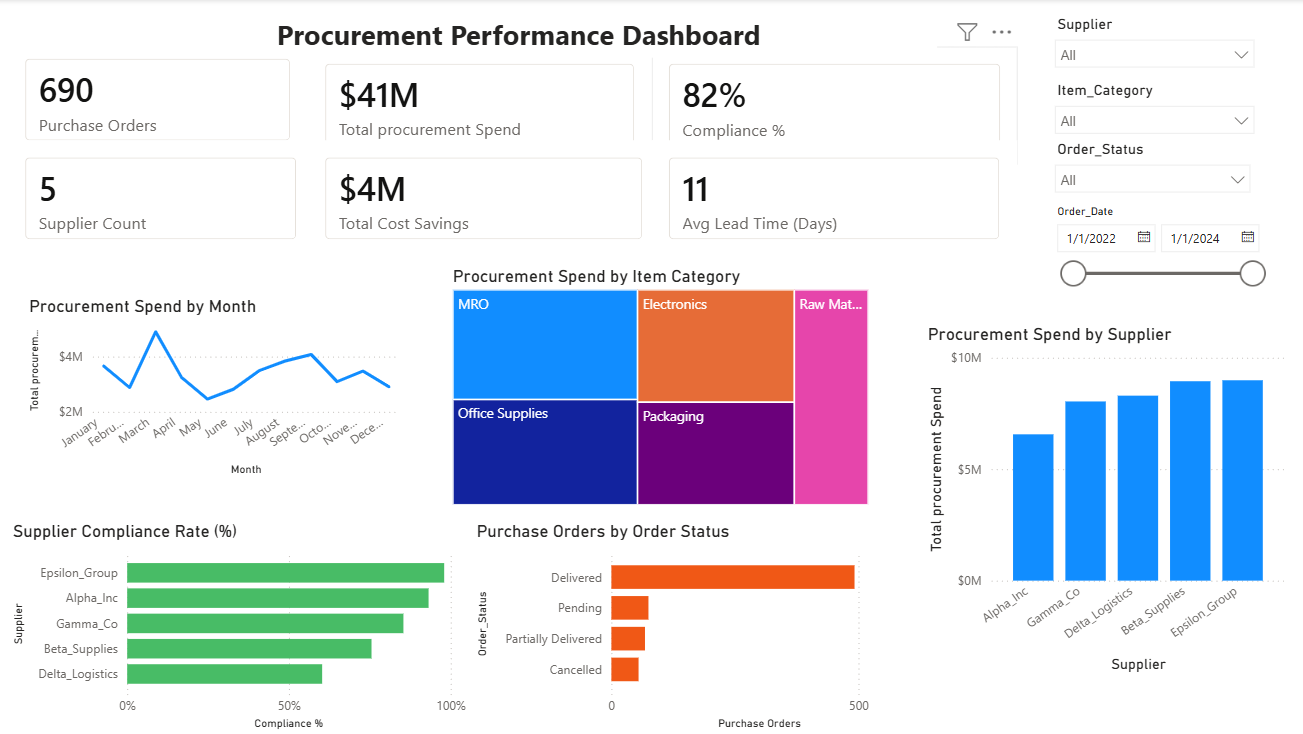

What the dashboard file says about the page in this screenshot:
{"tool":"powerbi","page":{"name":"Executive Dashboard","canvas":[1280,720],"ordinal":0},"visuals":[{"type":"cardVisual","fields":{"Data":["Procurement KPI Analysis Dataset.Purchase Orders"]},"box":[9.8,41.6,293.5,114.9],"z":0},{"type":"cardVisual","fields":{"Data":["Procurement KPI Analysis Dataset.Compliance %"]},"box":[639.5,46.5,358.3,114.9],"z":1000},{"type":"cardVisual","fields":{"Data":["Procurement KPI Analysis Dataset.Total procurement Spend"]},"box":[303.3,46.5,336.3,113.7],"z":2000},{"type":"cardVisual","fields":{"Data":["Procurement KPI Analysis Dataset.Supplier Count"]},"box":[10,138.3,299.3,114],"z":3000},{"type":"cardVisual","fields":{"Data":["Procurement KPI Analysis Dataset.Total Cost Savings"]},"box":[303.6,138.3,344.9,114],"z":4000},{"type":"cardVisual","fields":{"Data":["Procurement KPI Analysis Dataset.Avg Lead Time"]},"box":[640,138.3,357.8,114],"z":5000},{"type":"clusteredColumnChart","title":"Procurement Spend by Supplier","fields":{"Category":["Procurement KPI Analysis Dataset.Supplier"],"Y":["Procurement KPI Analysis Dataset.Total procurement Spend"]},"box":[904.9,317.9,359.5,346.1],"z":6000},{"type":"lineChart","title":"Procurement Spend by Month","fields":{"Category":["Procurement KPI Analysis Dataset.Order_Date.Variation.Date Hierarchy.Month"],"Y":["Procurement KPI Analysis Dataset.Total procurement Spend"]},"box":[25.7,289.4,372,181],"z":7000},{"type":"treemap","title":"Procurement Spend by Item Category","fields":{"Group":["Procurement KPI Analysis Dataset.Item_Category"],"Values":["Procurement KPI Analysis Dataset.Total procurement Spend"]},"box":[440.4,260.8,416.2,239.5],"z":8000},{"type":"clusteredBarChart","title":"Purchase Orders by Order Status","fields":{"Y":["Procurement KPI Analysis Dataset.Purchase Orders"],"Category":["Procurement KPI Analysis Dataset.Order_Status"]},"box":[463.3,510.3,441.9,209.5],"z":9000},{"type":"clusteredBarChart","title":"Supplier Compliance Rate (%)","fields":{"Category":["Procurement KPI Analysis Dataset.Supplier"],"Y":["Procurement KPI Analysis Dataset.Compliance %"]},"box":[10,510.3,453.3,209.5],"z":10000},{"type":"slicer","fields":{"Values":["Procurement KPI Analysis Dataset.Supplier"]},"box":[1023.5,11,215.2,61.1],"z":11000},{"type":"slicer","fields":{"Values":["Procurement KPI Analysis Dataset.Item_Category"]},"box":[1023.5,75.8,215.2,57.5],"z":12000},{"type":"slicer","fields":{"Values":["Procurement KPI Analysis Dataset.Order_Status"]},"box":[1023.5,133.3,211.6,68.5],"z":13000},{"type":"slicer","fields":{"Values":["Procurement KPI Analysis Dataset.Order_Date"]},"box":[1023.5,195.7,225,94.2],"z":14000},{"type":"textbox","box":[100.3,11,818.1,46.5],"z":15000}]}

Visuals, with their boxes in screenshot pixels (x1, y1, x2, y2), scaled from the page's 1280x720 canvas onto the 1303x734 screenshot:
cardVisual - Procurement KPI Analysis Dataset.Purchase Orders: 10:42:309:160
cardVisual - Procurement KPI Analysis Dataset.Compliance %: 651:47:1016:165
cardVisual - Procurement KPI Analysis Dataset.Total procurement Spend: 309:47:651:163
cardVisual - Procurement KPI Analysis Dataset.Supplier Count: 10:141:315:257
cardVisual - Procurement KPI Analysis Dataset.Total Cost Savings: 309:141:660:257
cardVisual - Procurement KPI Analysis Dataset.Avg Lead Time: 652:141:1016:257
"Procurement Spend by Supplier" clusteredColumnChart: 921:324:1287:677
"Procurement Spend by Month" lineChart: 26:295:405:480
"Procurement Spend by Item Category" treemap: 448:266:872:510
"Purchase Orders by Order Status" clusteredBarChart: 472:520:921:733
"Supplier Compliance Rate (%)" clusteredBarChart: 10:520:472:733
slicer - Procurement KPI Analysis Dataset.Supplier: 1042:11:1261:74
slicer - Procurement KPI Analysis Dataset.Item_Category: 1042:77:1261:136
slicer - Procurement KPI Analysis Dataset.Order_Status: 1042:136:1257:206
slicer - Procurement KPI Analysis Dataset.Order_Date: 1042:200:1271:296
textbox: 102:11:935:59
